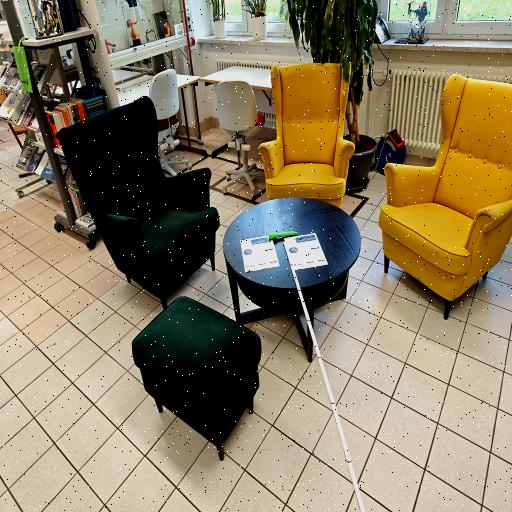Probe-Detection: (269, 231, 297, 240)
